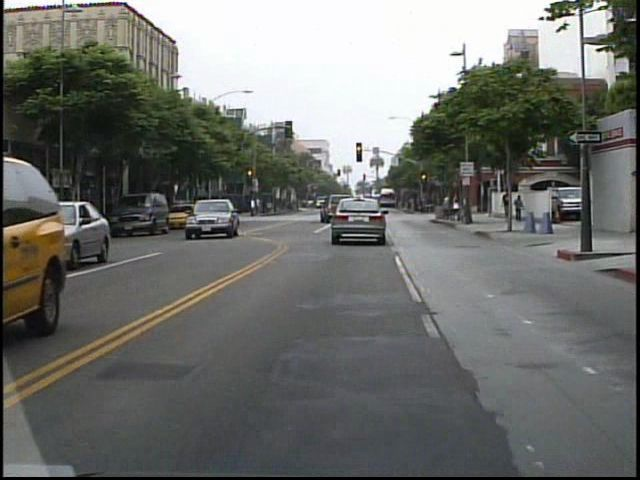person: (438, 189, 457, 222), (501, 187, 516, 226), (513, 191, 526, 225), (251, 194, 260, 219)
